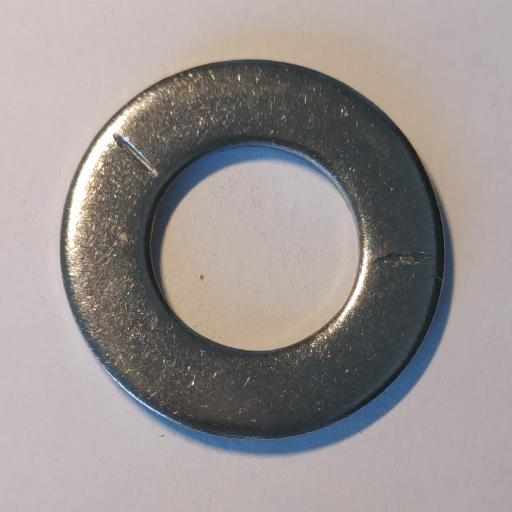scratch: (114, 132, 159, 178), (377, 250, 435, 266)
